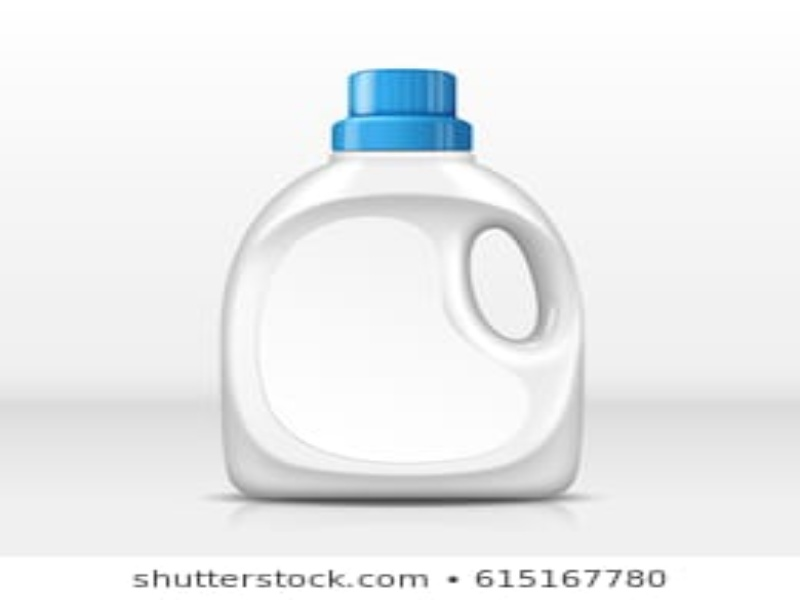bottle-cap: (330, 68, 475, 155)
detergent-bottle: (215, 64, 586, 504)
